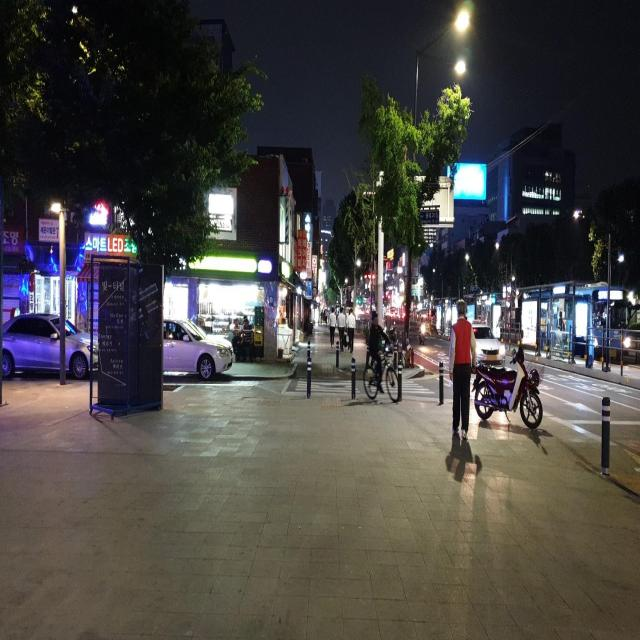횡단보도: (294, 377, 436, 395)
